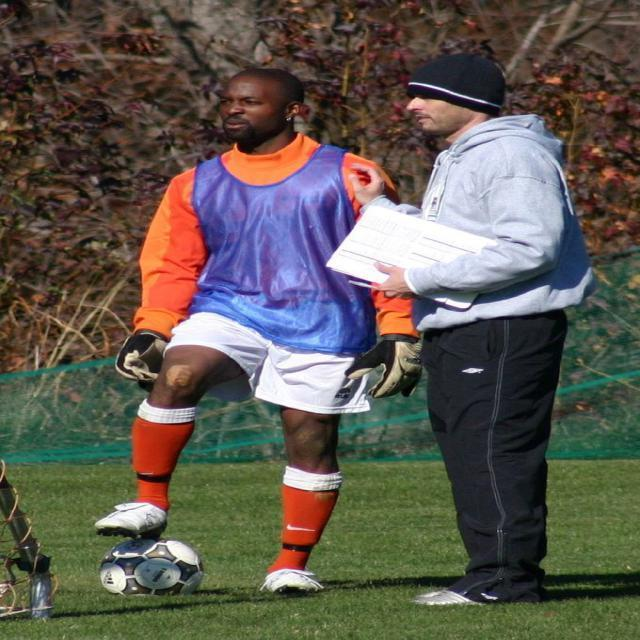football: (98, 492, 214, 605)
